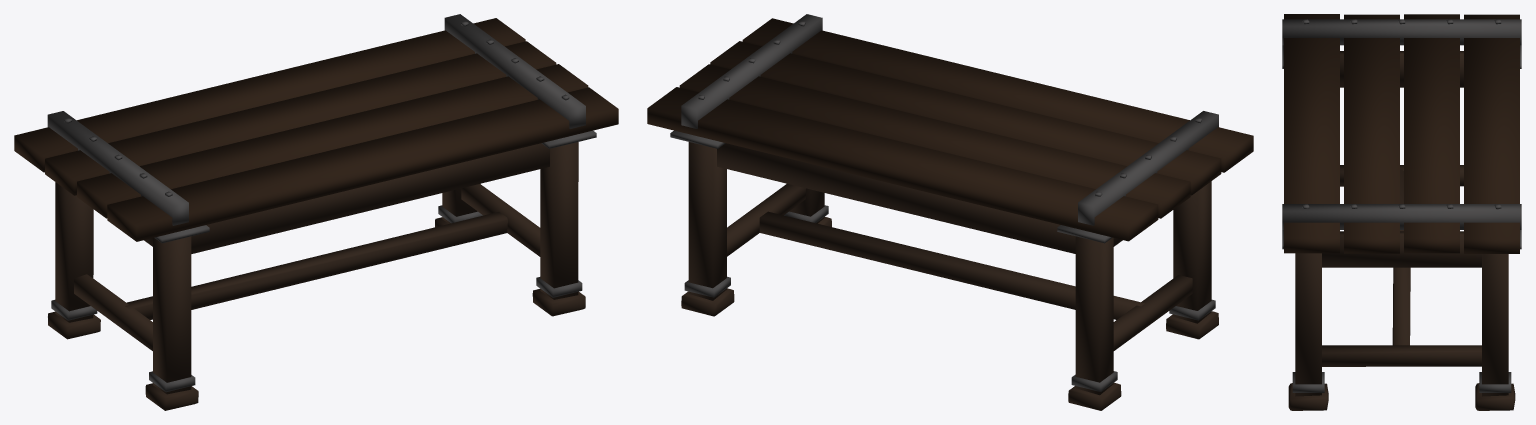
The model's file is tavern-table.lod0.glb.
3 views of the same model, side by side, from view 1: azimuth 30°, elevation 25°; view 2: azimuth 150°, elevation 25°; view 3: azimuth 270°, elevation 25° (orthographic). The views are drawn at different scales.
Visible parts, largest first — view 1: Object_4; view 2: Object_4; view 3: Object_4.
Part boxes in pixels (x1=…): Object_4: x1=14, y1=14, x2=618, y2=410; Object_4: x1=647, y1=14, x2=1253, y2=410; Object_4: x1=1282, y1=14, x2=1521, y2=410.
Size of the model in its own units: 2.19 by 0.9123 by 0.9858.
